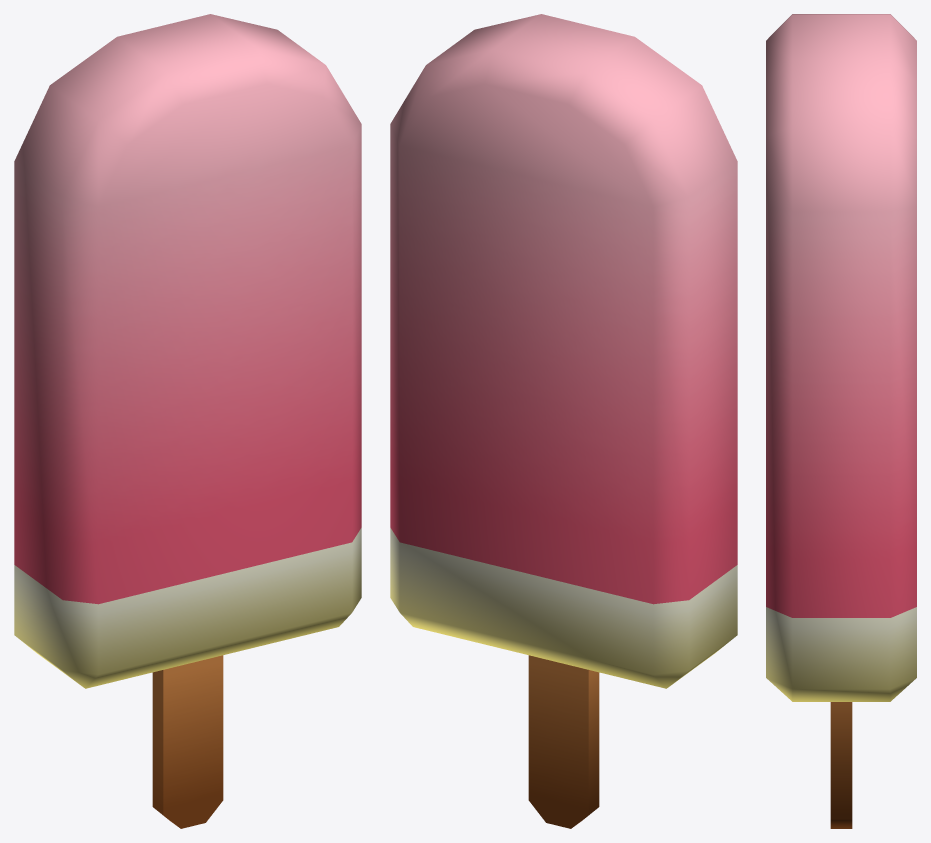
Rendered from m_SimplePopsicle01.fbx.
The picture shows the model from 3 angles, left to right: view 1: azimuth 30°, elevation 25°; view 2: azimuth 150°, elevation 25°; view 3: azimuth 270°, elevation 25°; orthographic projection.
Parts seen in each view (by area): view 1: m_SimplePopsicle01; view 2: m_SimplePopsicle01; view 3: m_SimplePopsicle01.
Boxes of the visible parts, x1=… form: m_SimplePopsicle01: x1=14, y1=14, x2=361, y2=828; m_SimplePopsicle01: x1=390, y1=14, x2=737, y2=828; m_SimplePopsicle01: x1=766, y1=14, x2=916, y2=828.
Bounding box in the file's own units: 9.24 × 22.99 × 4.
